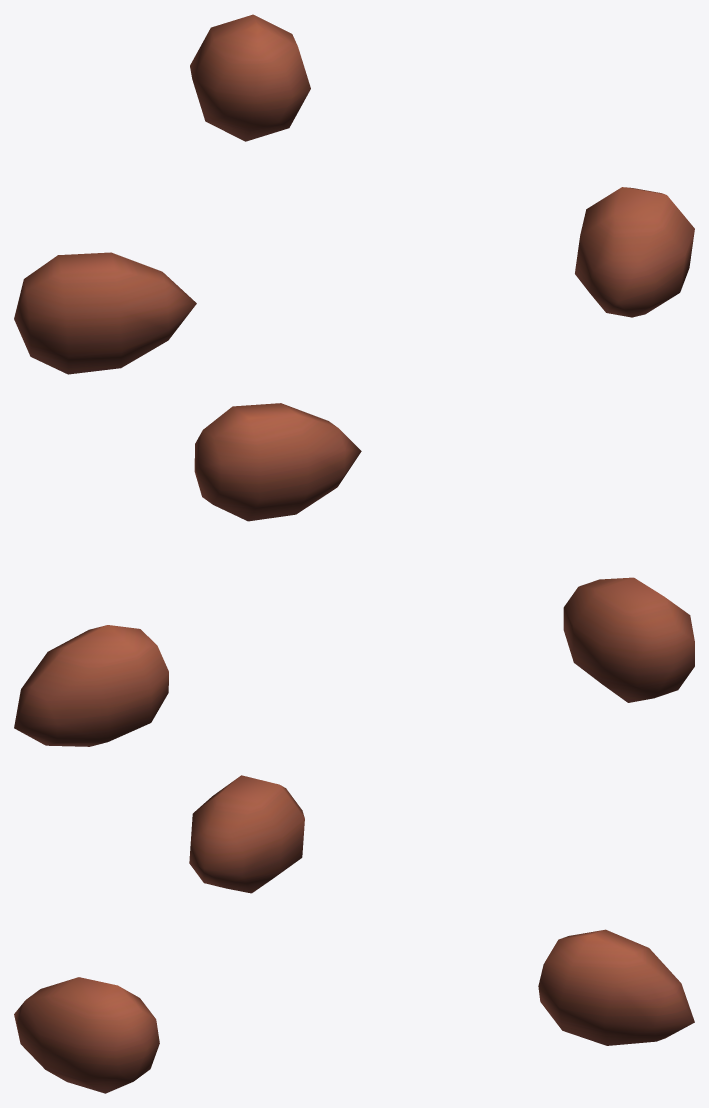
Rendered from radish_seed.glb.
3 renders of one model, top to bottom at view 1: azimuth 30°, elevation 25°; view 2: azimuth 150°, elevation 25°; view 3: azimuth 270°, elevation 25°, orthographic. The views are drawn at different scales.
Visible parts, largest first — view 1: SM_Radish_Seed2; view 2: SM_Radish_Seed2; view 3: SM_Radish_Seed2.
Part boxes in pixels (x1,y1,x2,y2): SM_Radish_Seed2: (14, 14, 694, 374); SM_Radish_Seed2: (14, 403, 694, 746); SM_Radish_Seed2: (14, 775, 694, 1093).
Size of the model in its own units: 0.2148 by 0.0411 by 0.2347.
1 material, 1 textured.
